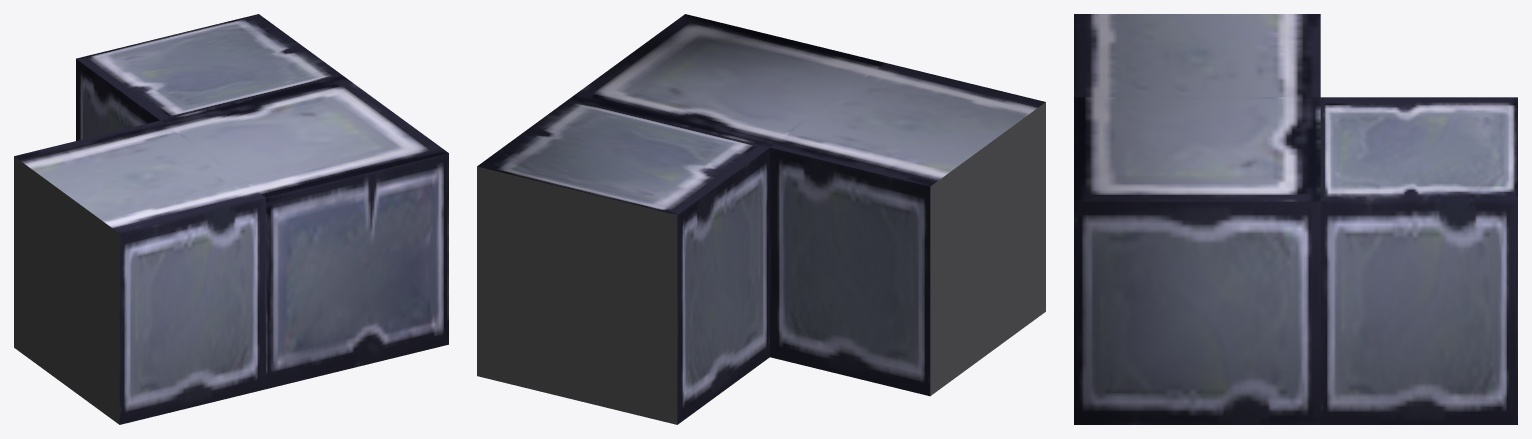
The model's file is dungeon_plinth_corner.fbx.
3 views of the same model, side by side, from view 1: azimuth 30°, elevation 25°; view 2: azimuth 150°, elevation 25°; view 3: azimuth 270°, elevation 25° (orthographic). The views are drawn at different scales.
Visible parts, largest first — view 1: wall_side.015; view 2: wall_side.015; view 3: wall_side.015.
Part boxes in pixels (x1,y1,x2,y2): wall_side.015: [14, 14, 448, 424]; wall_side.015: [477, 14, 1045, 424]; wall_side.015: [1074, 14, 1517, 424].
Bounding box in the file's own units: 45 × 25 × 45.
